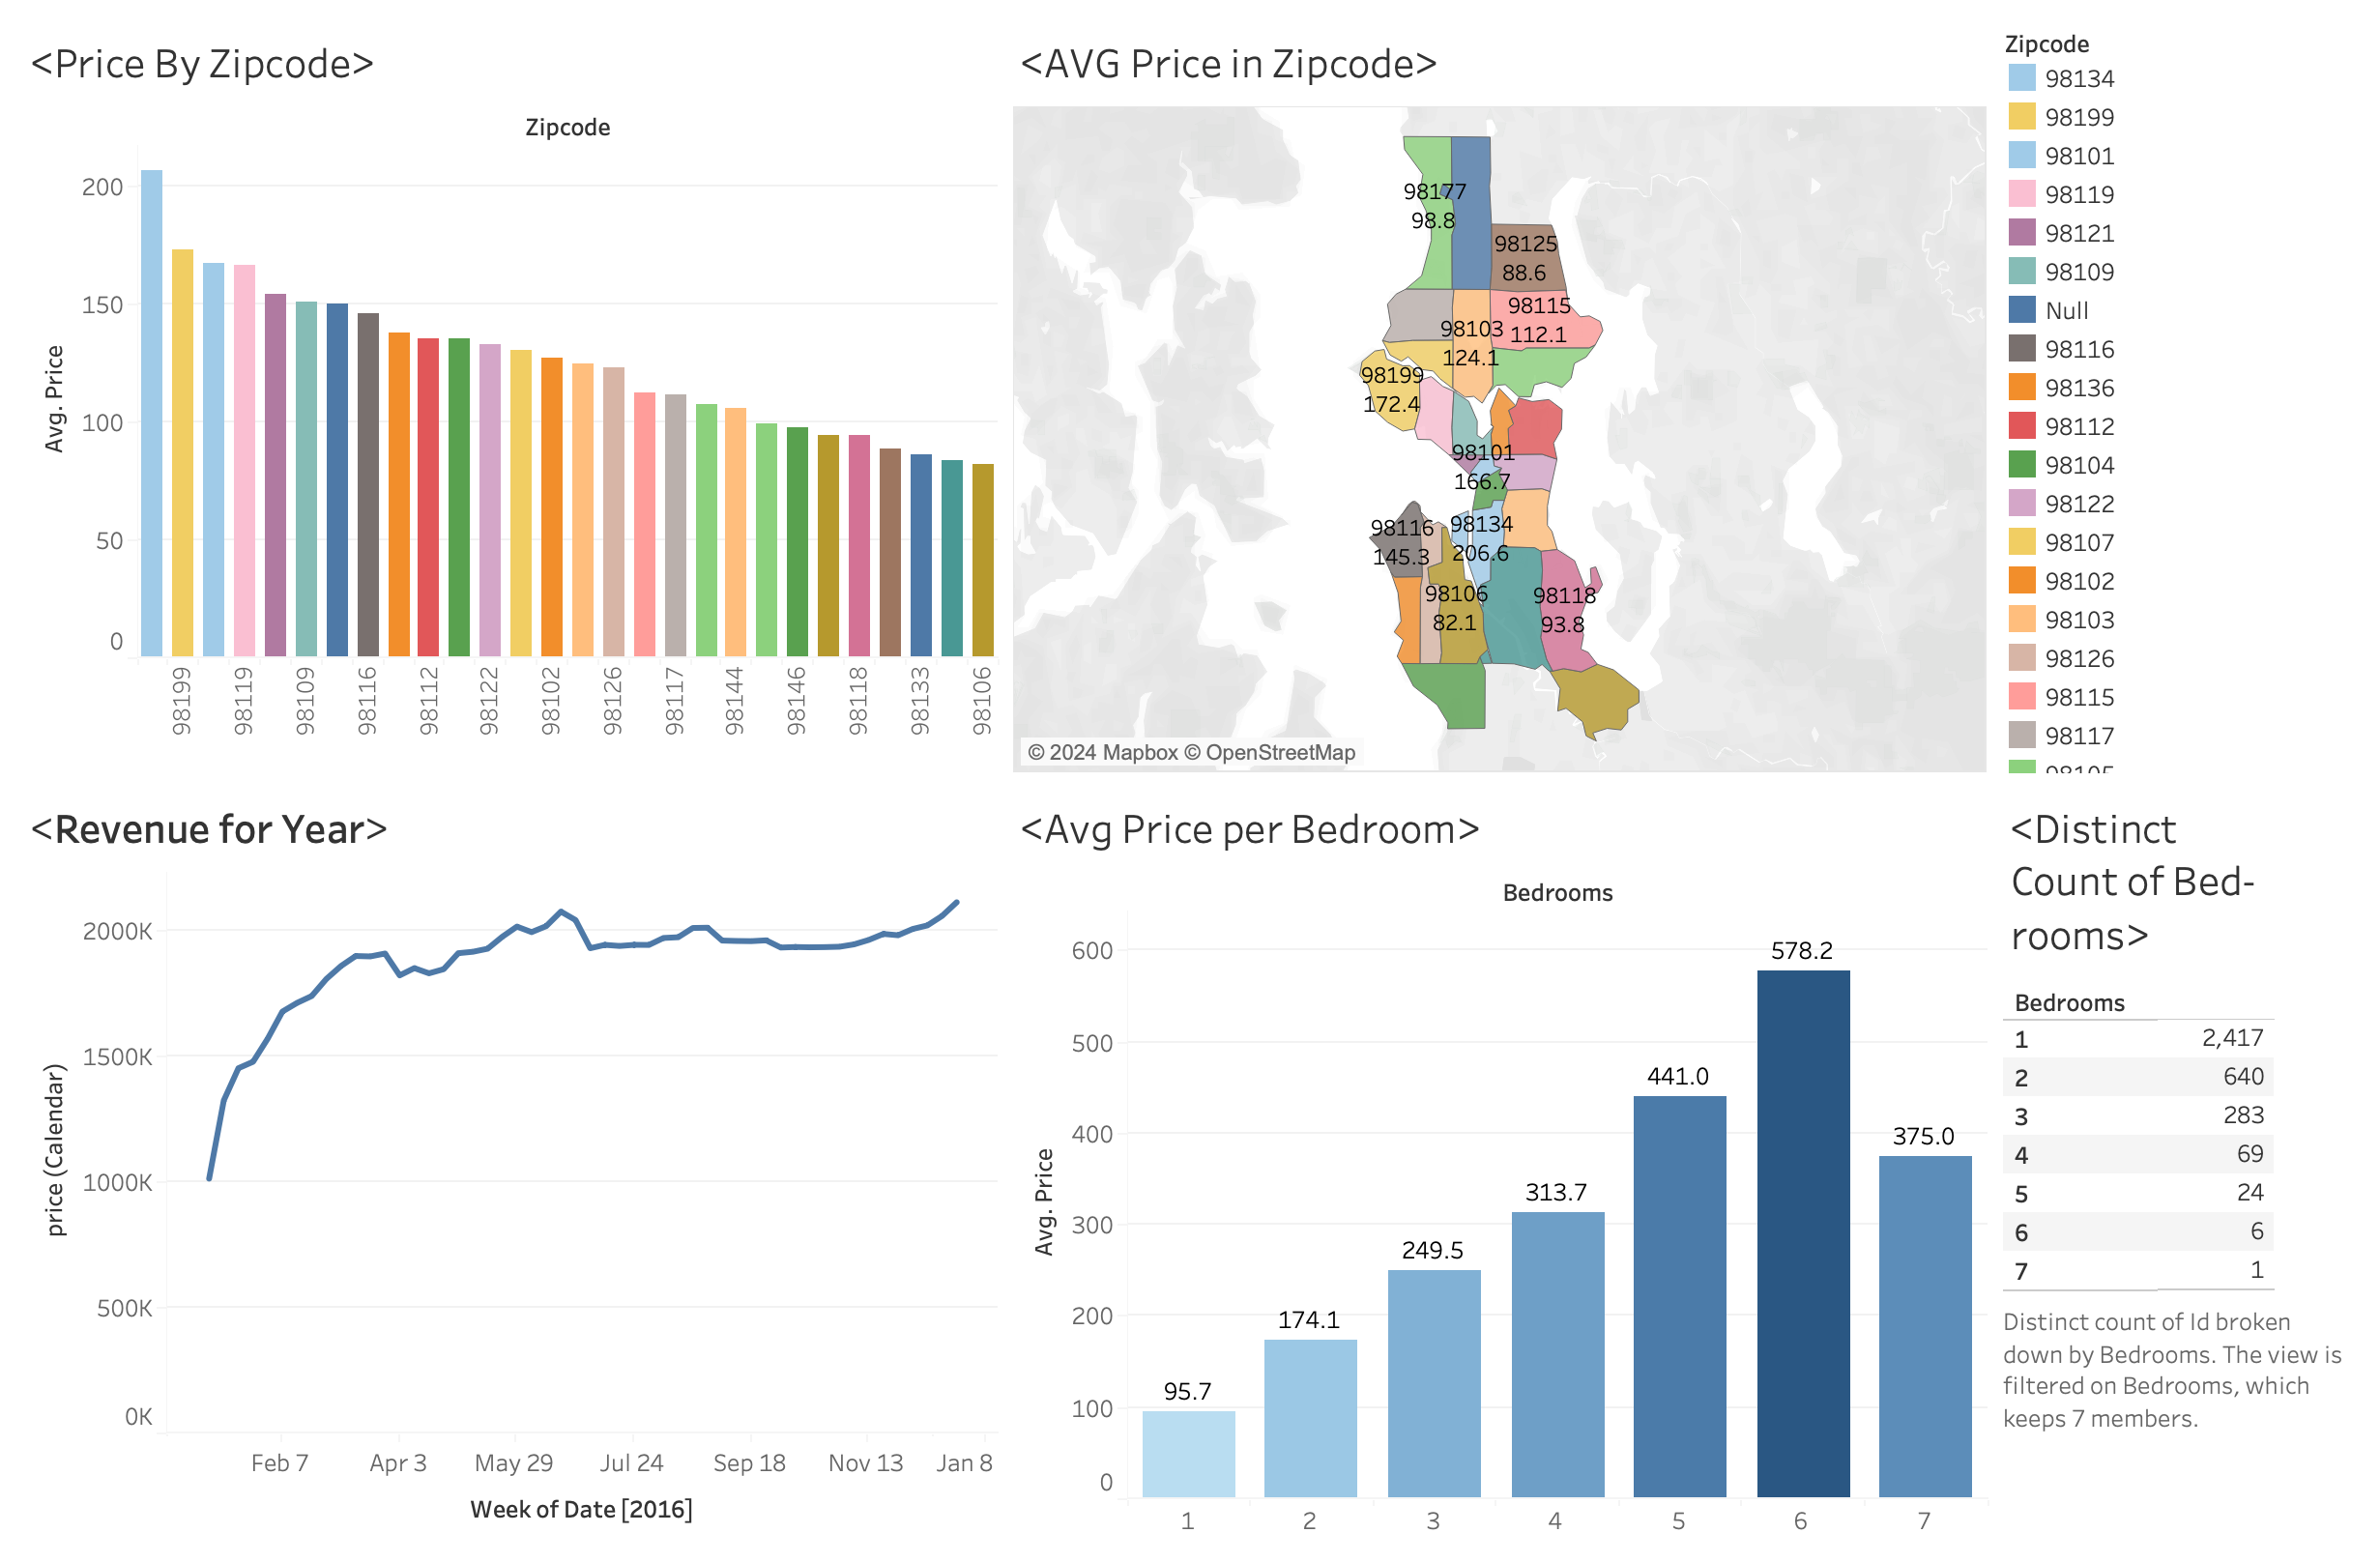

Layout of this report page (visuals, bound fields, positions):
{"tool":"tableau","page":{"name":"Dashboard 2","canvas":[1000,1000],"units":"permille","ordinal":1},"visuals":[{"type":"worksheet","title":"Sheet 5","mark":"Automatic","rows":["price"],"cols":["zipcode"],"box":[6.5,9.9,415.9,490.1]},{"type":"worksheet","title":"Sheet 6","mark":"Multipolygon","box":[422.4,9.9,415.9,490.1]},{"type":"legend","title":"Sheet 5","param":"[federated.0izh3gy1p0fpfs1f9f6o204ahnea].[none:zipcode:ok]","box":[838.3,9.9,155.2,490.1]},{"type":"worksheet","title":"Sheet 7","mark":"Automatic","rows":["price (Calendar)"],"cols":["date"],"box":[6.5,500,415.9,490.1]},{"type":"worksheet","title":"Sheet 8","mark":"Automatic","rows":["price"],"cols":["bedrooms"],"box":[422.4,500,415.9,490.1]},{"type":"worksheet","title":"Sheet 9","mark":"Automatic","rows":["bedrooms"],"box":[838.3,500,155.2,450.5]}]}

Visuals, with their boxes on the dashboard's canvas, which has no fixed pixel size, in thousandths of its width and height (x1, y1, x2, y2). These are canvas units, not pixel positions in the 2380x1562 screenshot, which may show the page scaled, cropped or inside an application window:
"Sheet 5" worksheet: [6,10,422,500]
"Sheet 6" worksheet (Multipolygon marks): [422,10,838,500]
"Sheet 5" legend: [838,10,994,500]
"Sheet 7" worksheet: [6,500,422,990]
"Sheet 8" worksheet: [422,500,838,990]
"Sheet 9" worksheet: [838,500,994,950]
